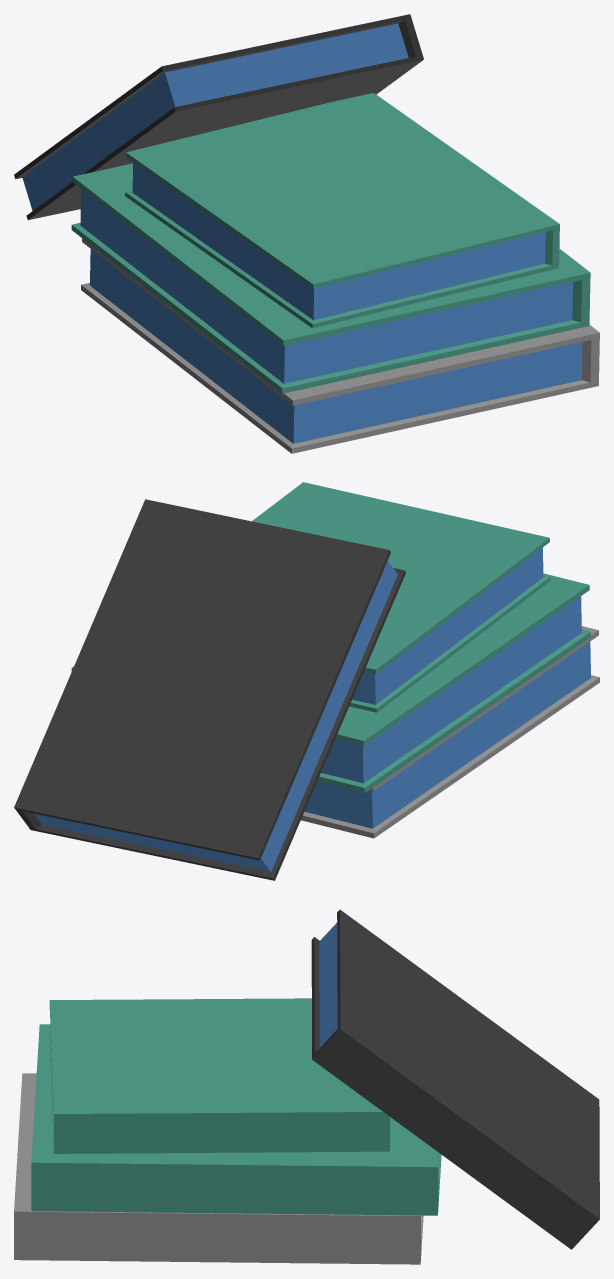
The model's file is Bedroom3_Books6.fbx.
The picture shows the model from 3 angles, top to bottom: view 1: azimuth 30°, elevation 25°; view 2: azimuth 150°, elevation 25°; view 3: azimuth 270°, elevation 25°; orthographic projection. The views are drawn at different scales.
Parts seen in each view (by area): view 1: Bedroom3_Books6; view 2: Bedroom3_Books6; view 3: Bedroom3_Books6.
Part boxes in pixels (x1=…): Bedroom3_Books6: x1=14, y1=14, x2=599, y2=453; Bedroom3_Books6: x1=14, y1=482, x2=599, y2=880; Bedroom3_Books6: x1=14, y1=909, x2=599, y2=1264.
Bounding box in the file's own units: 33.04 × 25.55 × 58.04.
